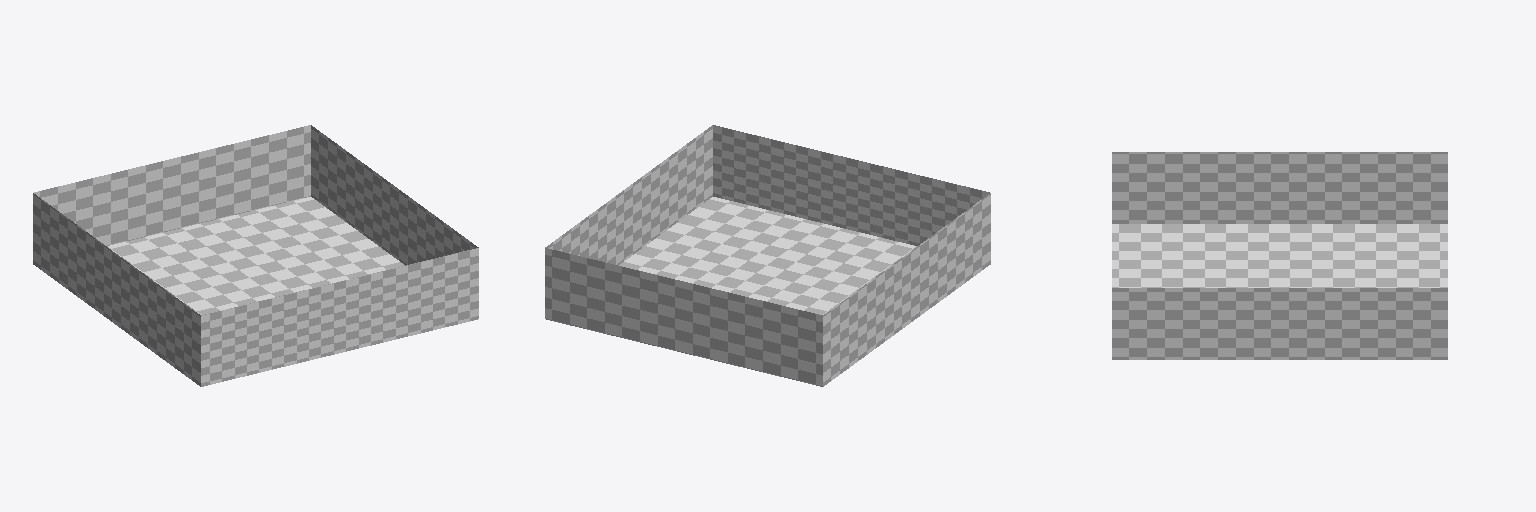
The picture shows the model from 3 angles: view 1: azimuth 30°, elevation 25°; view 2: azimuth 150°, elevation 25°; view 3: azimuth 270°, elevation 25°; orthographic projection.
Visible parts, largest first — view 1: pCube1; view 2: pCube1; view 3: pCube1.
Boxes of the visible parts, box(x1,y1,x2,y2) form: pCube1: box(33, 125, 478, 386); pCube1: box(545, 125, 990, 386); pCube1: box(1112, 152, 1447, 359).
Bounding box in the file's own units: 1247 × 307 × 1304.
1 materials, 1 textured.